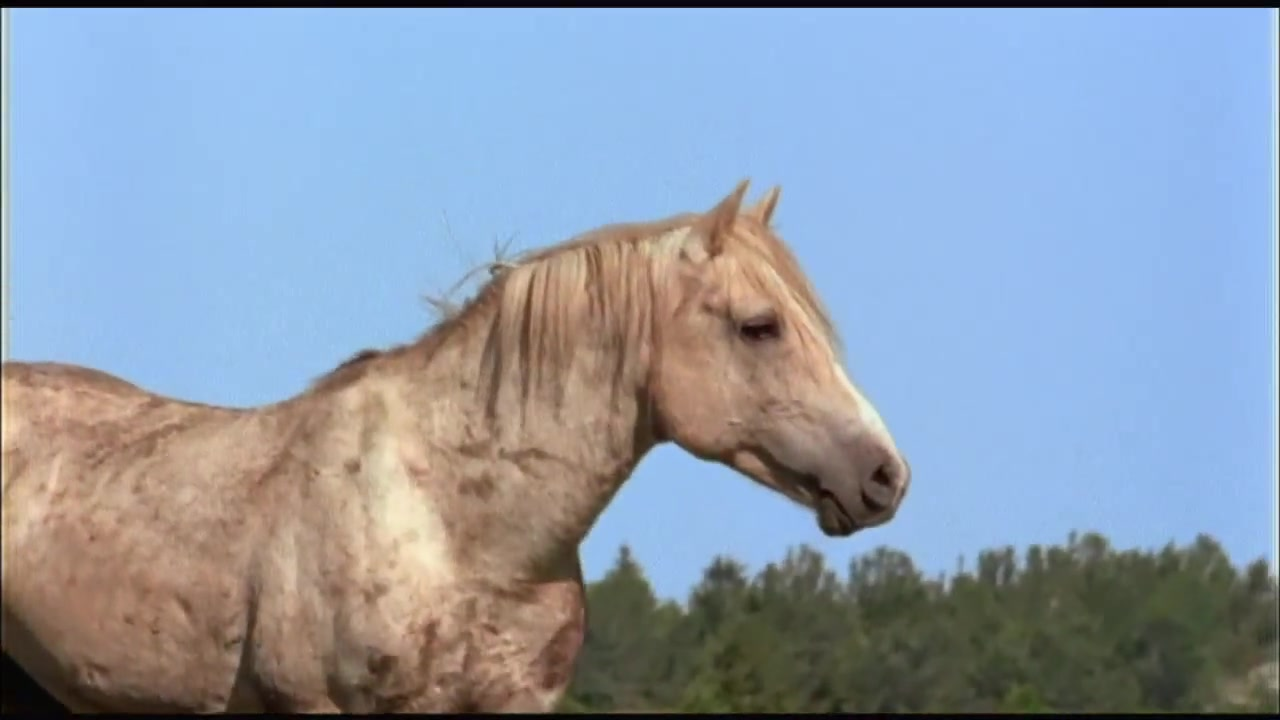horse: (1, 177, 913, 719)
